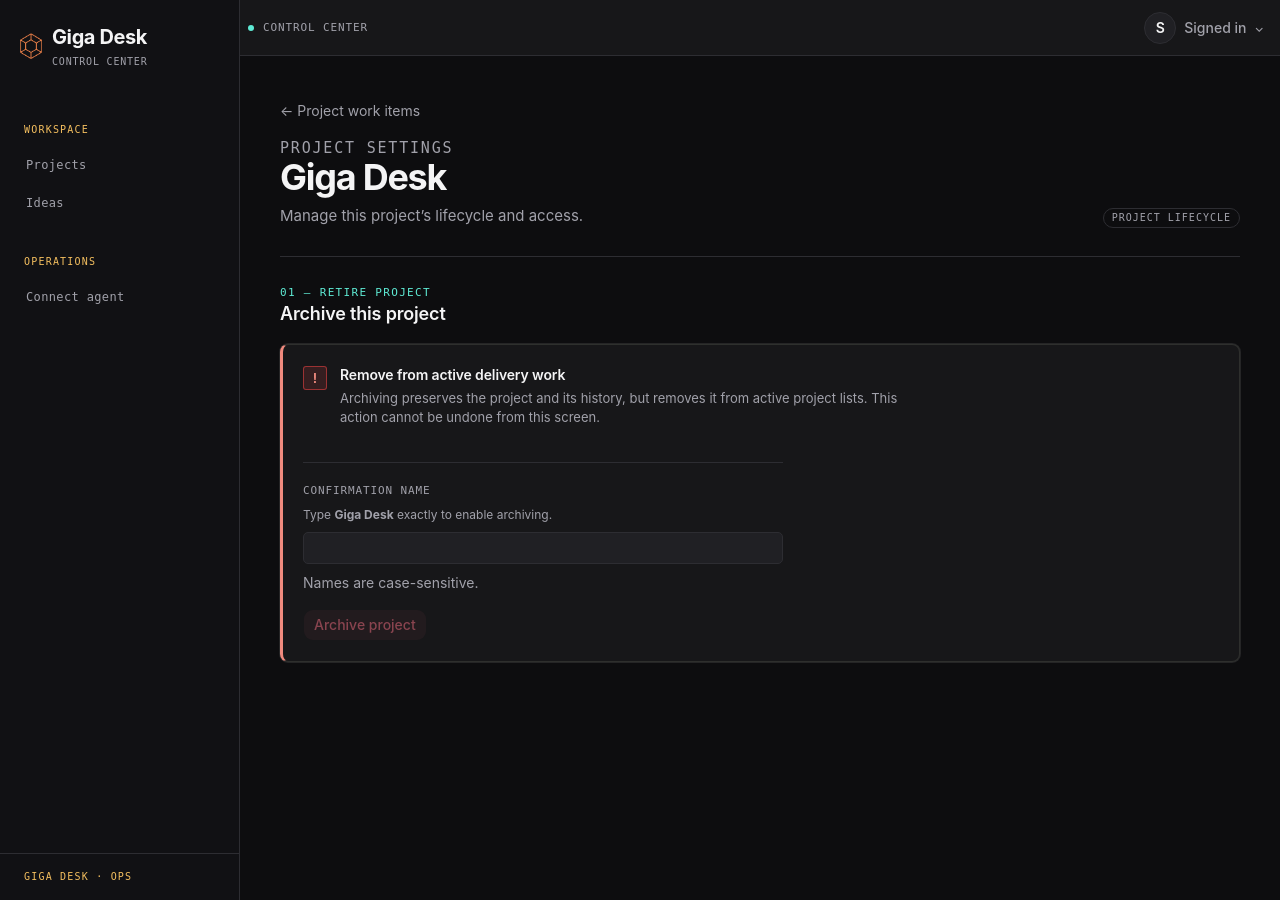
Test: App › returns to the portfolio after archiving without reloading the document
Type "Giga Desk" into the field labelled "Confirmation name" at [543, 548], box 303,532 -> 783,564
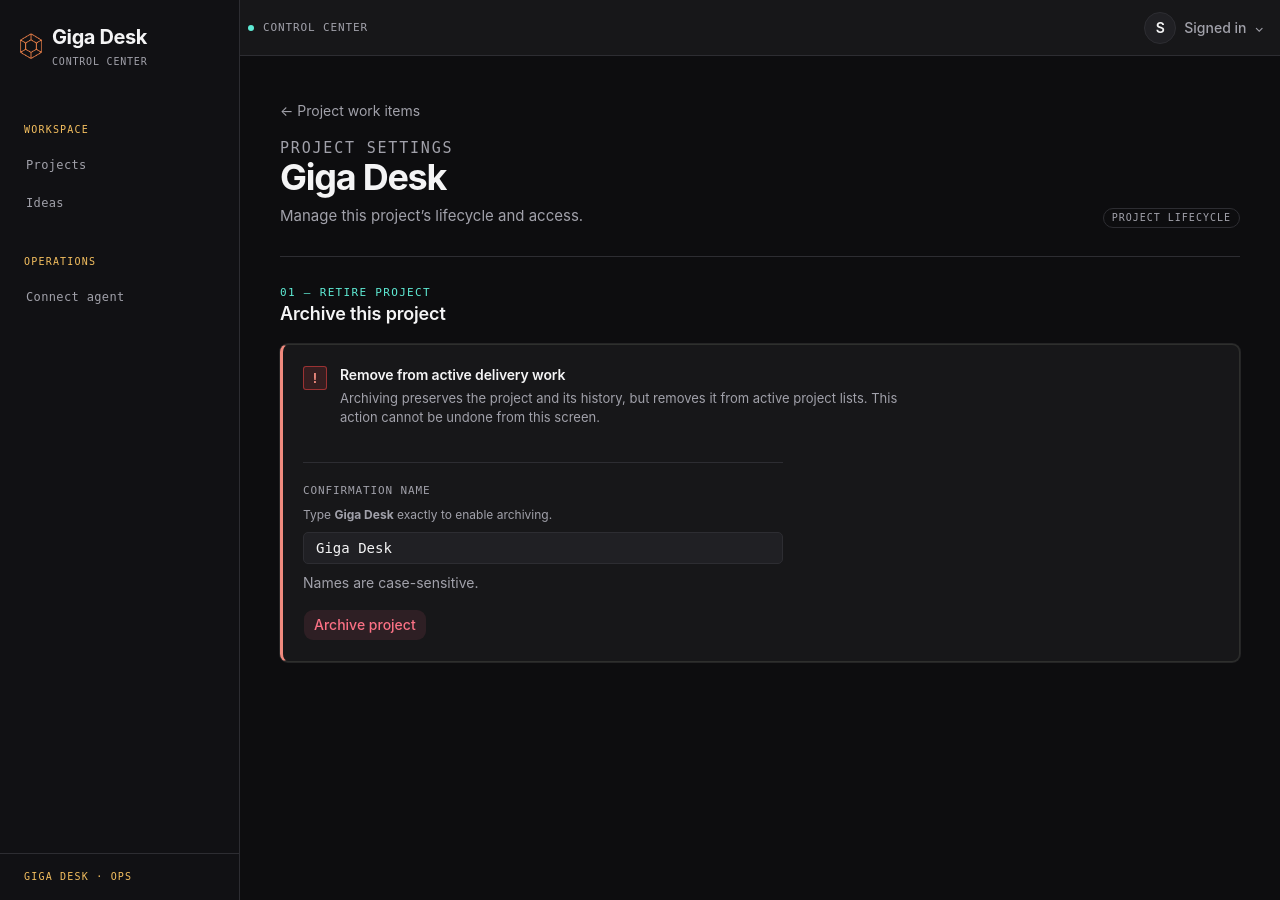
Click the button "Archive project" at [365, 625], box 303,609 -> 427,641
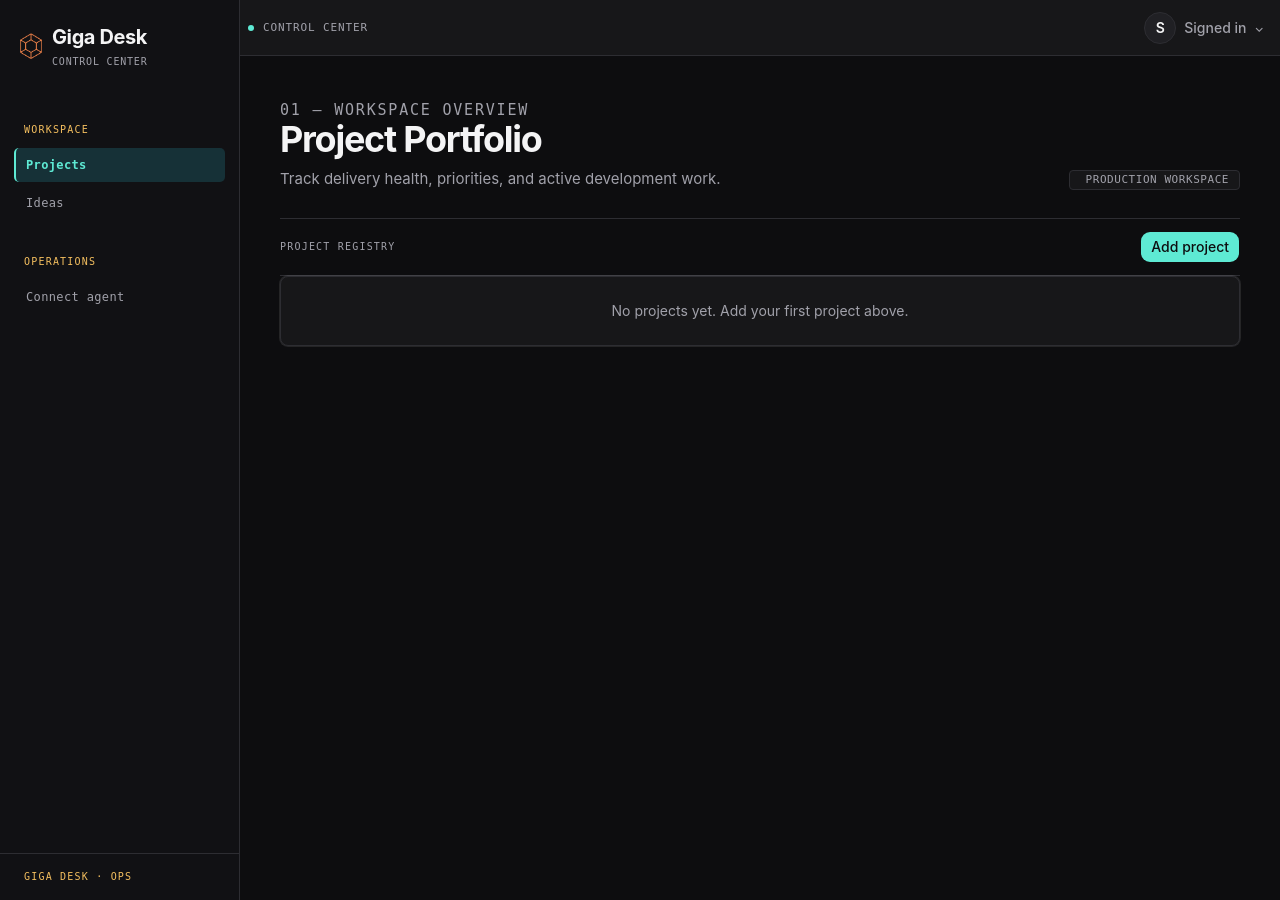
Check: the heading "Project Portfolio" is shown, box 280,117 -> 542,161
